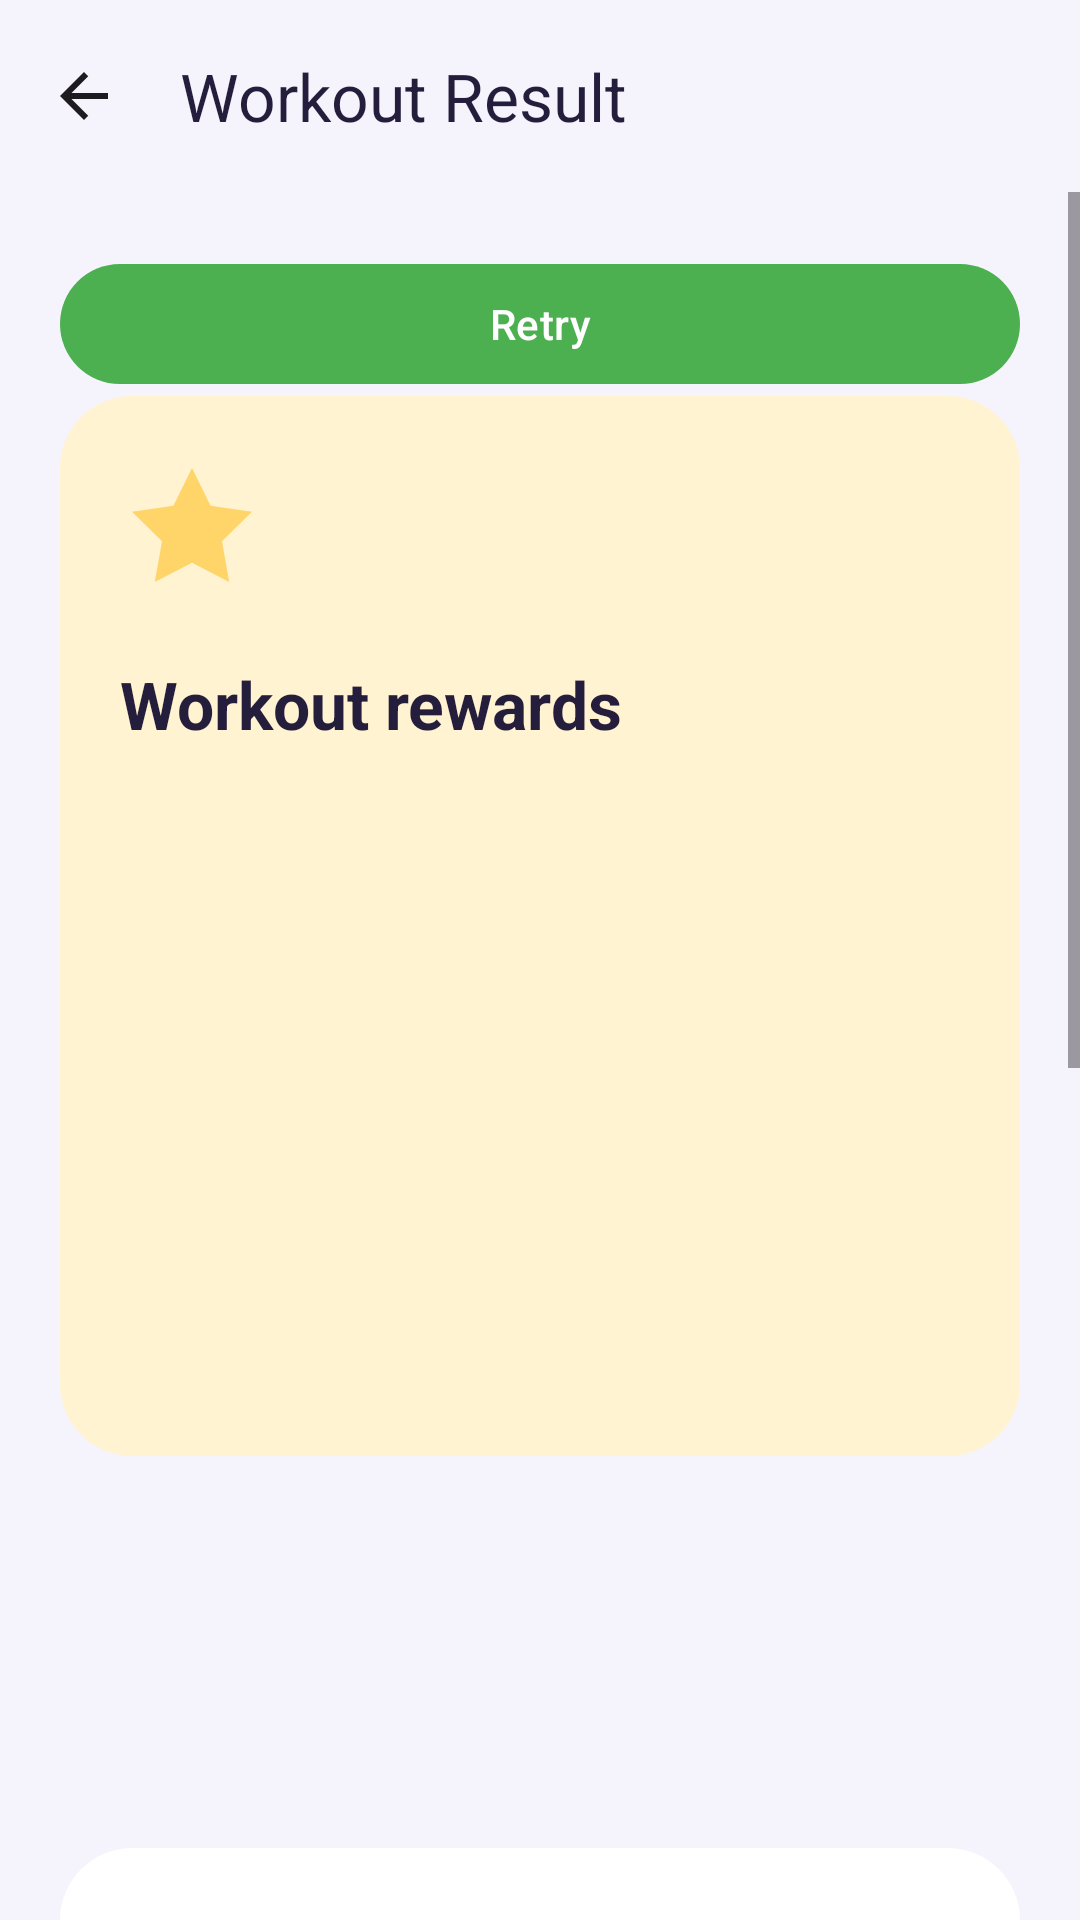

Icons on this 1080*1920 Android screen, each with the point to tap as [x,y]:
reward star: [192,525]
